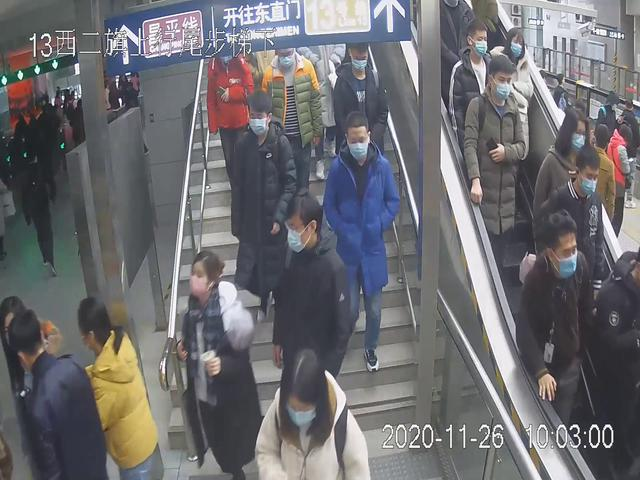person: (321, 105, 401, 374), (175, 248, 261, 480), (269, 191, 352, 431), (513, 209, 596, 434), (74, 294, 165, 480), (229, 88, 300, 324), (465, 53, 528, 270), (259, 38, 326, 223), (329, 38, 393, 211), (205, 38, 257, 209)
